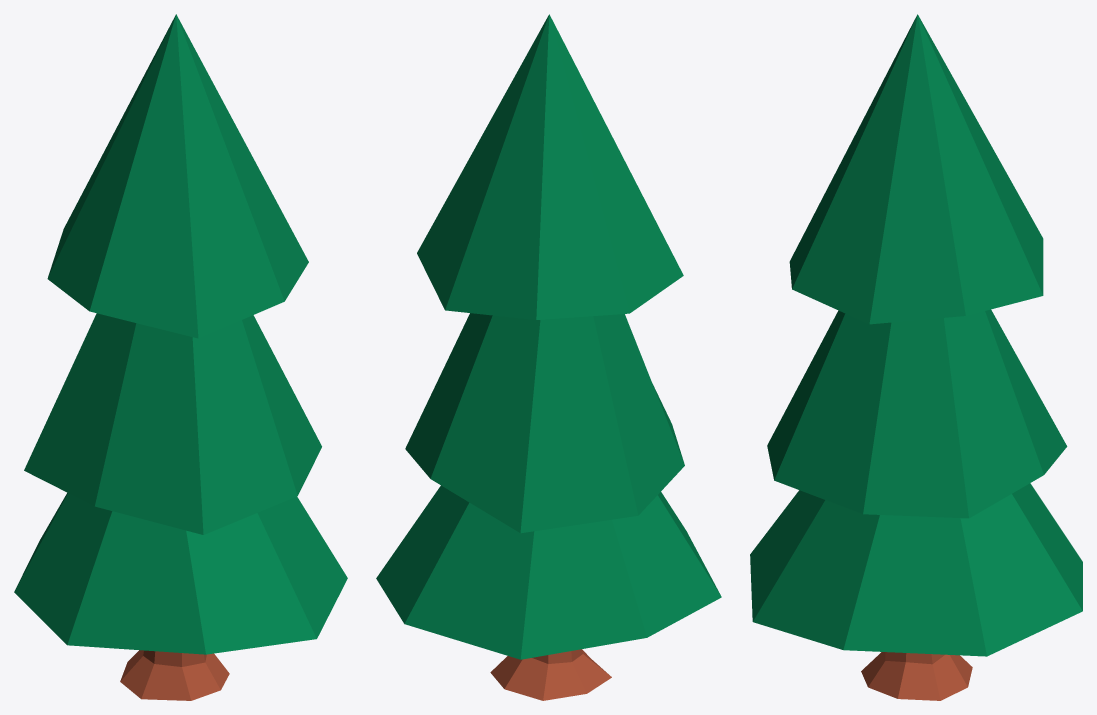
Rendered from Tree.gltf.
3 renders of one model, left to right at view 1: azimuth 30°, elevation 25°; view 2: azimuth 150°, elevation 25°; view 3: azimuth 270°, elevation 25°, orthographic.
Parts seen in each view (by area): view 1: TopLeaves, CenterLeaves, BottomLeaves, Trunk; view 2: TopLeaves, CenterLeaves, BottomLeaves, Trunk; view 3: CenterLeaves, TopLeaves, BottomLeaves, Trunk.
Boxes of the visible parts, x1=… form: TopLeaves: x1=47, y1=14, x2=308, y2=338; CenterLeaves: x1=24, y1=313, x2=321, y2=534; BottomLeaves: x1=14, y1=493, x2=347, y2=654; Trunk: x1=120, y1=650, x2=229, y2=700; TopLeaves: x1=417, y1=14, x2=683, y2=319; CenterLeaves: x1=405, y1=313, x2=684, y2=533; BottomLeaves: x1=376, y1=485, x2=721, y2=659; Trunk: x1=490, y1=649, x2=611, y2=700; CenterLeaves: x1=767, y1=309, x2=1067, y2=518; TopLeaves: x1=789, y1=14, x2=1043, y2=324; BottomLeaves: x1=750, y1=483, x2=1082, y2=656; Trunk: x1=861, y1=652, x2=972, y2=700.
Bounding box in the file's own units: 1.3 × 2.95 × 1.34.
2 materials, 2 textured.
